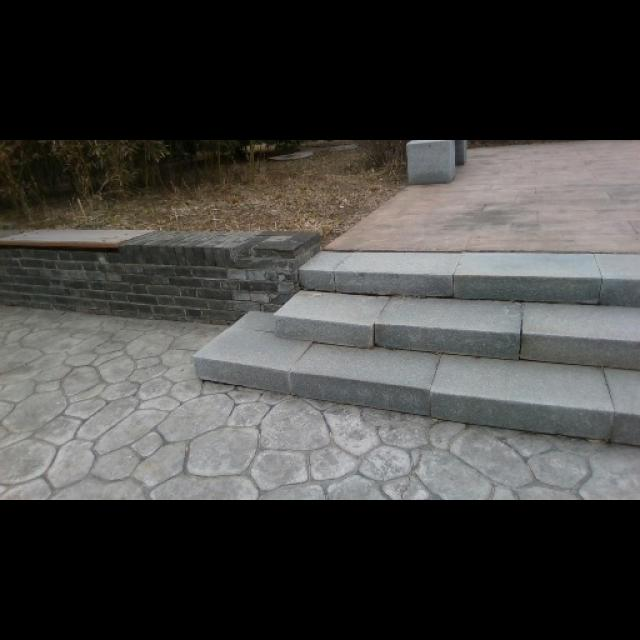Stairs: (191, 248, 639, 447)
